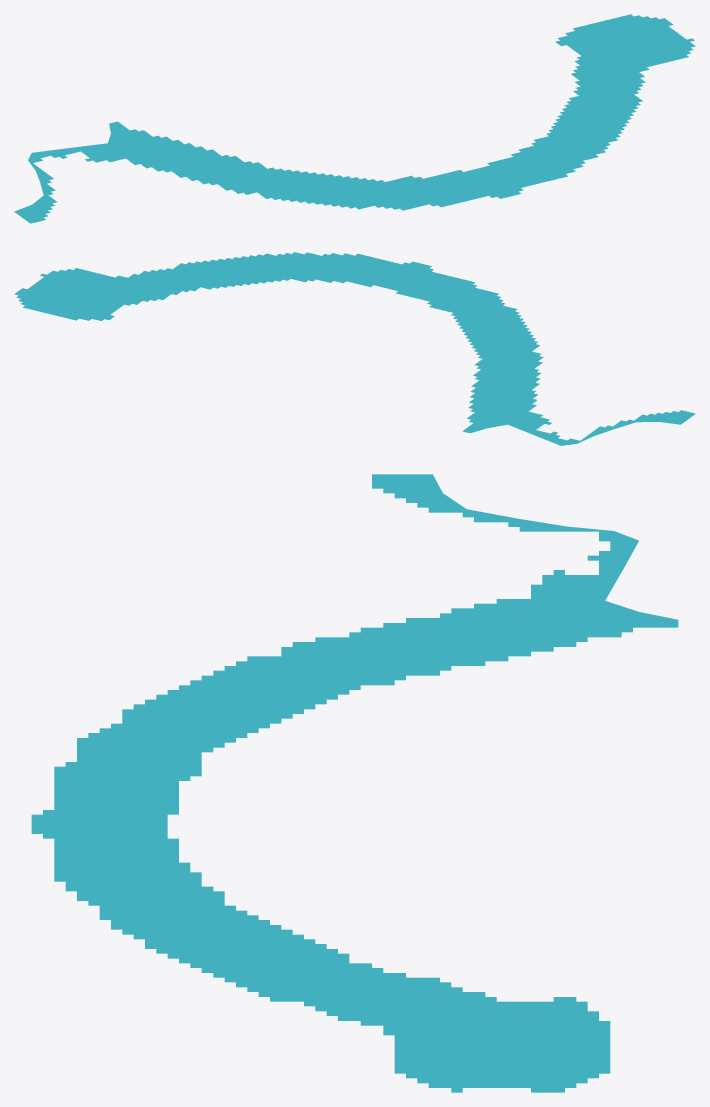
File: RingWater_One.glb
The picture shows the model from 3 angles, top to bottom: view 1: azimuth 30°, elevation 25°; view 2: azimuth 150°, elevation 25°; view 3: azimuth 270°, elevation 25°; orthographic projection. The views are drawn at different scales.
Parts seen in each view (by area): view 1: RingWater__Water_Mid; view 2: RingWater__Water_Mid; view 3: RingWater__Water_Mid.
Part boxes in pixels (left/top/right/bottom): RingWater__Water_Mid: left=14, top=14, right=695, bottom=223; RingWater__Water_Mid: left=14, top=252, right=695, bottom=445; RingWater__Water_Mid: left=31, top=474, right=678, bottom=1092.
Bounding box in the file's own units: 258 × 0 × 114.
